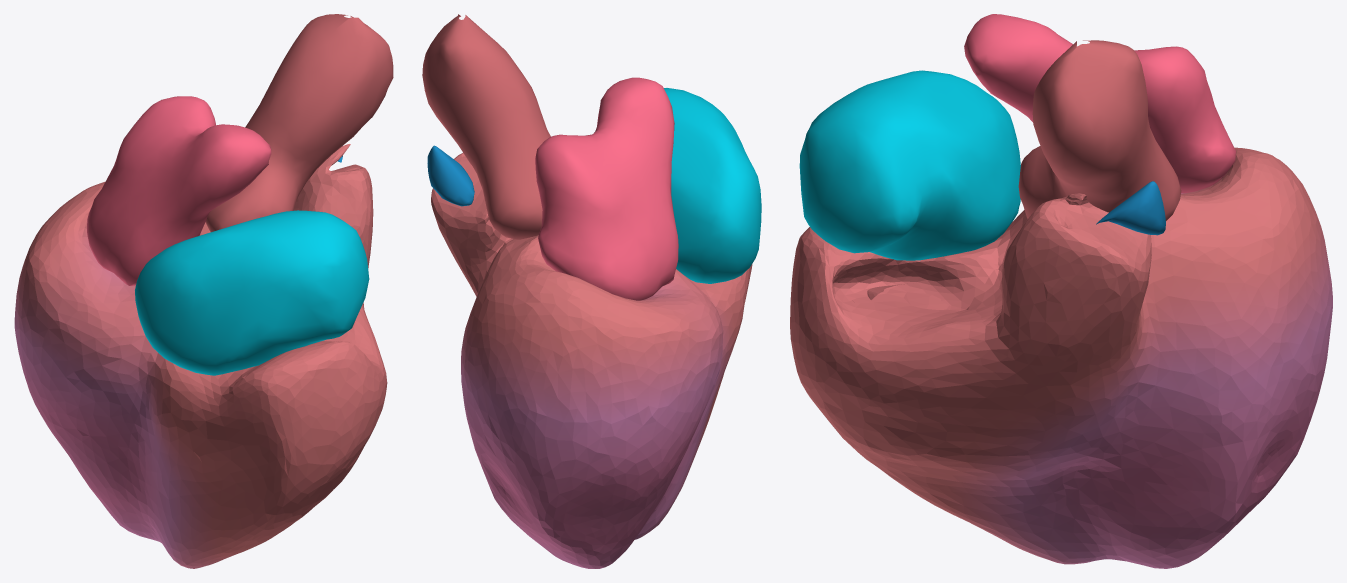
File: frame_14.glb
3 renders of one model, left to right at view 1: azimuth 30°, elevation 25°; view 2: azimuth 150°, elevation 25°; view 3: azimuth 270°, elevation 25°, orthographic. The views are drawn at different scales.
Parts seen in each view (by area): view 1: Renderer Node; view 2: Renderer Node; view 3: Renderer Node.
Boxes of the visible parts, <box> form: Renderer Node: <box>14,14,393,568</box>; Renderer Node: <box>422,14,761,568</box>; Renderer Node: <box>790,14,1332,568</box>.
Size of the model in its own units: 102 by 154 by 122.
